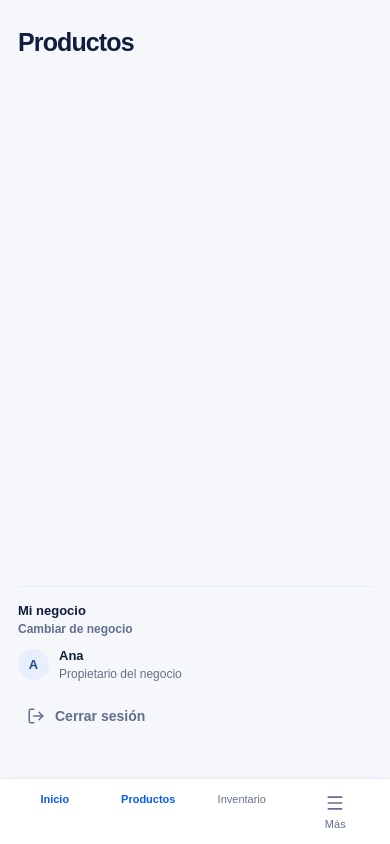
ofrece navegación móvil compacta sin claves duplicadas, con todos los módulos en Más y sin header superior
The width and height of the screenshot is (390, 844).
Click the button with aria-label "Abrir menú" at (335, 812), box left=288, top=787, right=382, bottom=836
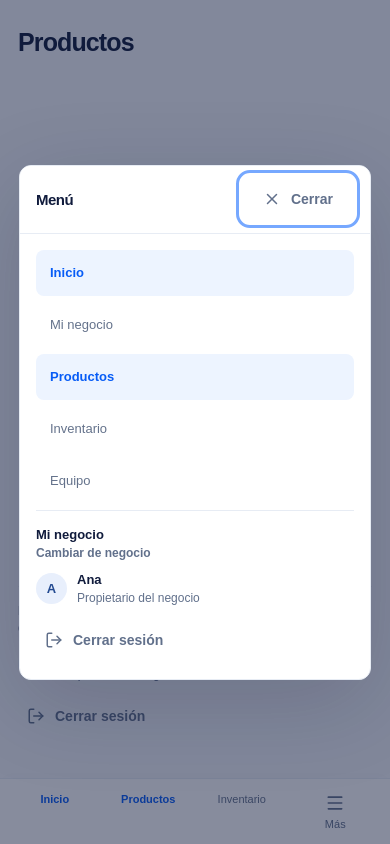
Expected: the button "Cerrar sesión" is shown, left=36, top=616, right=354, bottom=662
